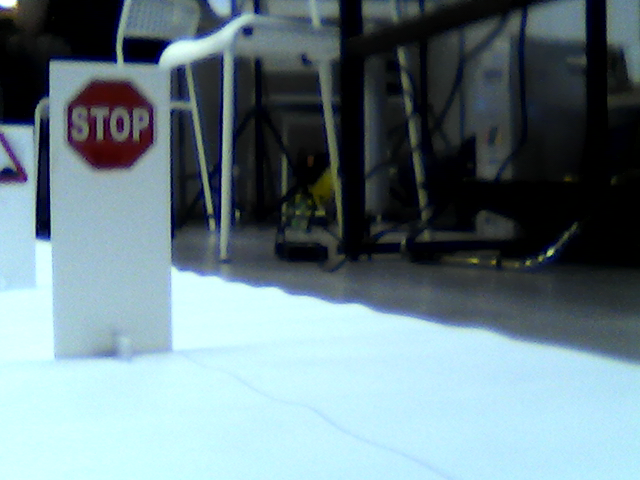Stop: (62, 75, 157, 169)
